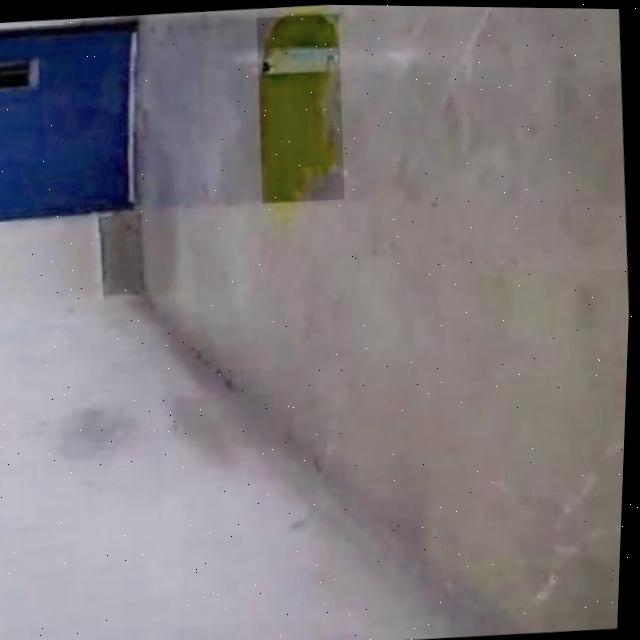spillage: (261, 12, 340, 199)
